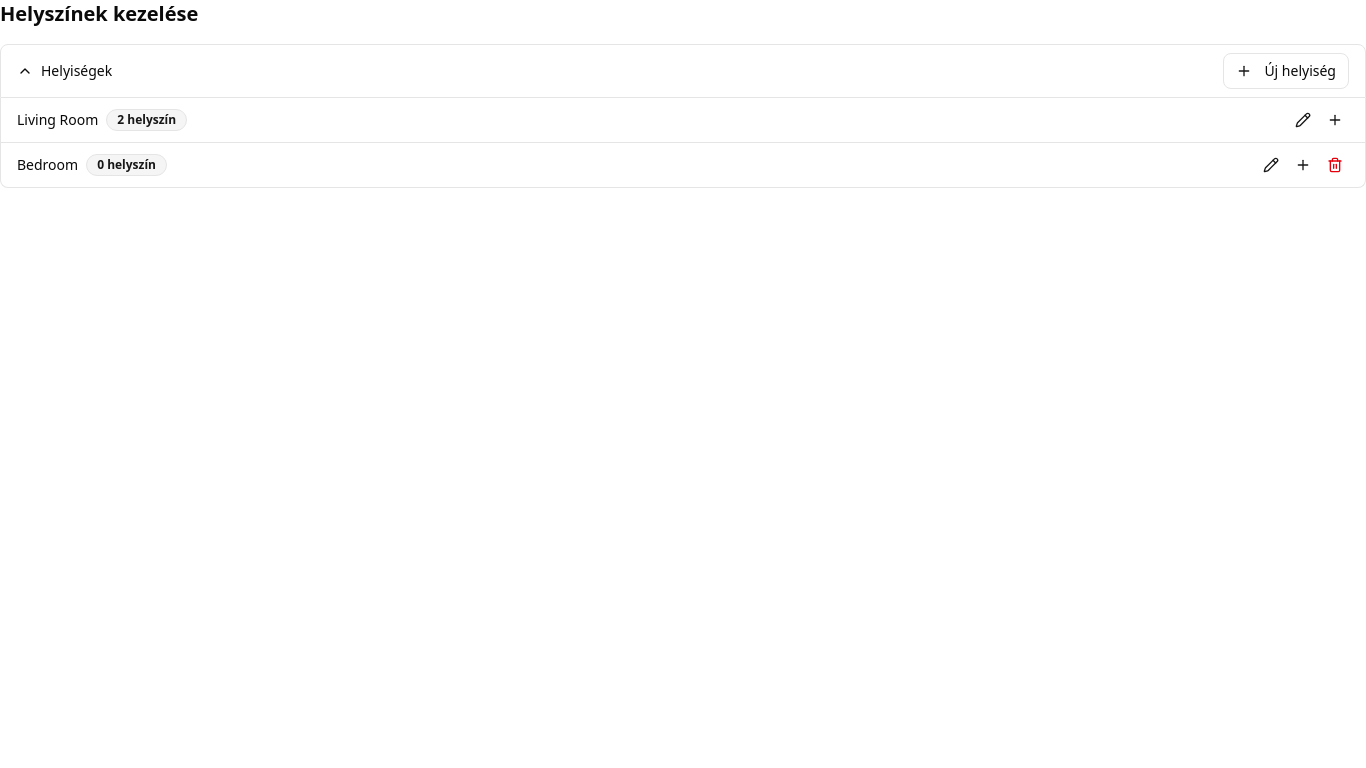
Test case: LocationManagementPage — add location button › clicking "+ Helyszín" button opens location form modal
This screenshot has width=1366, height=768.
Expected: the text "Living Room" is shown, [17,110,98,130]
Click the button named "+ Helyszín" in the row of "Living Room" at (1335, 120), box [1321,106,1349,134]
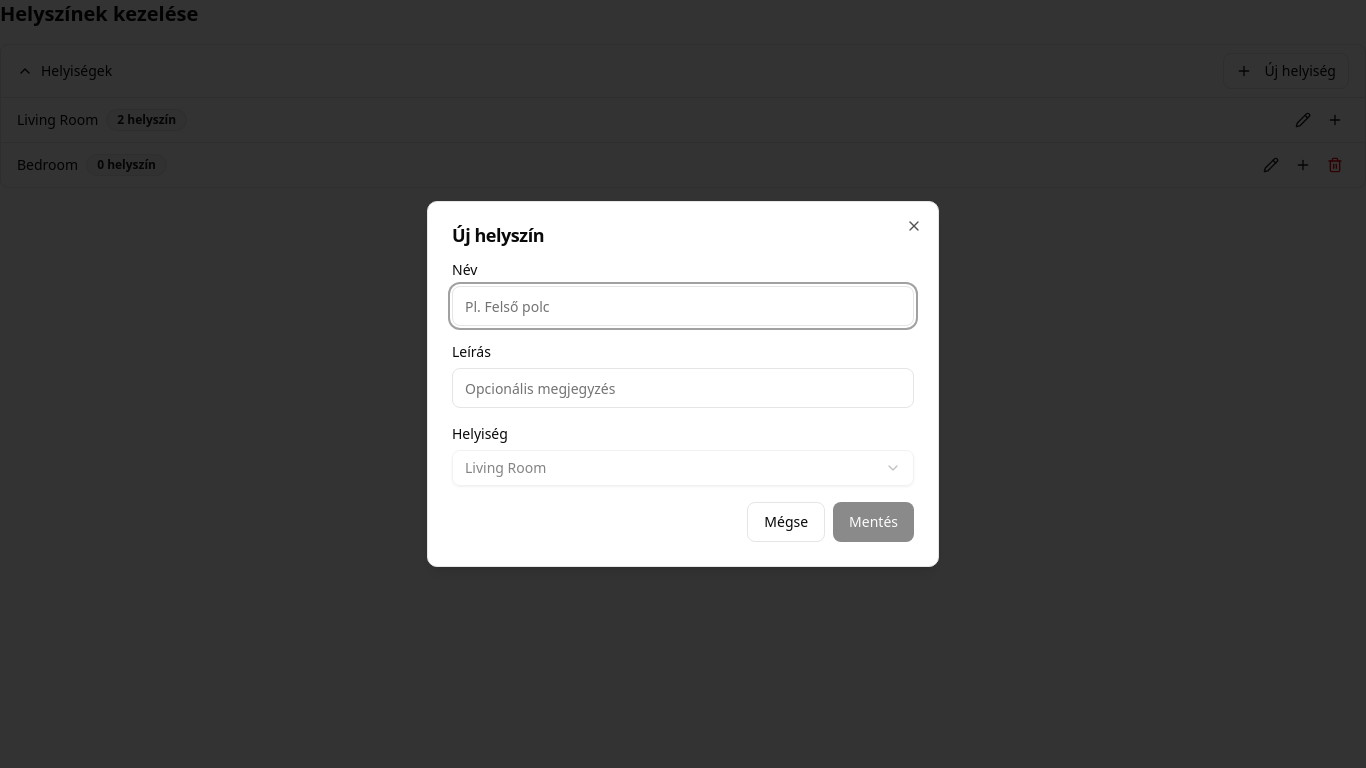
Expected: the dialog is shown, [427,201,939,567]
